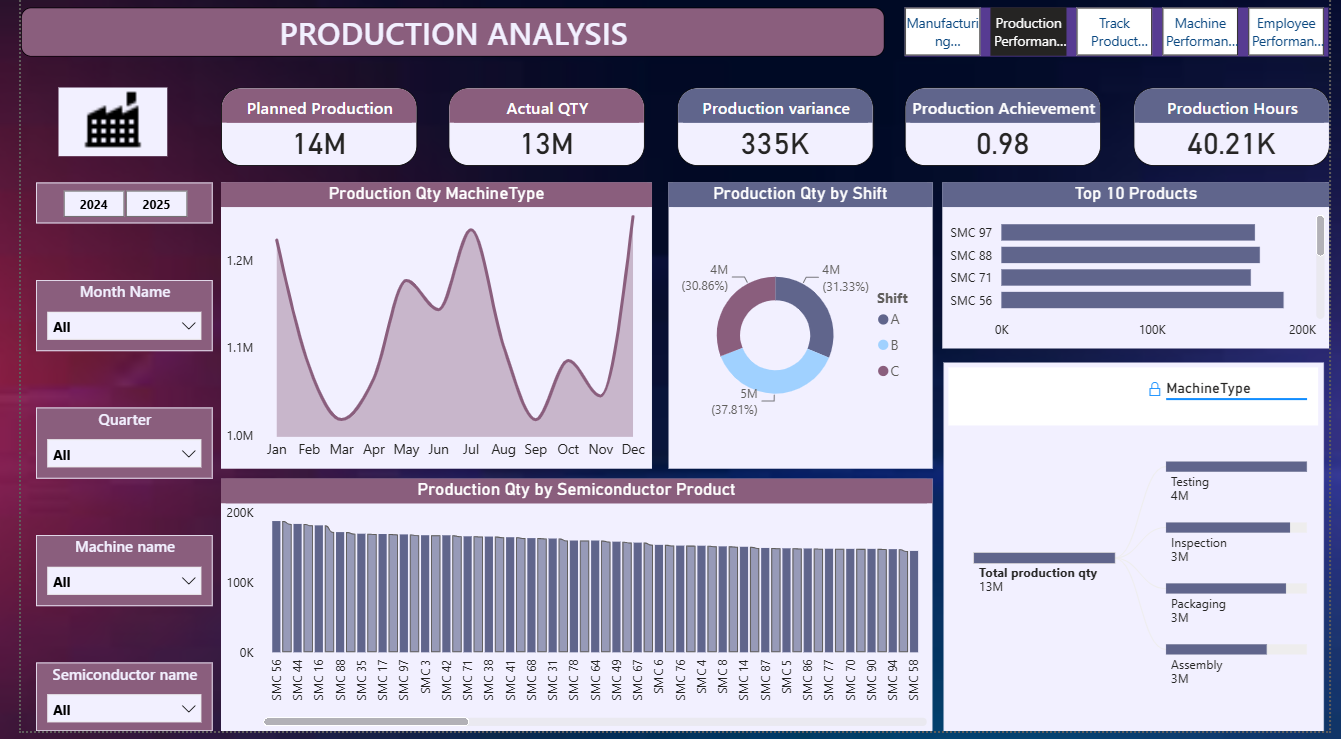

The dashboard page shown, as its layout file describes it:
{"tool":"powerbi","page":{"name":"Production Performance","canvas":[1280,720],"ordinal":1},"visuals":[{"type":"card","title":"Planned Production","fields":{"Values":["Measure Table.Total planned production"]},"box":[195.7,90.5,192,77],"z":0},{"type":"card","title":"Actual QTY","fields":{"Values":["Sum(Fact_Production.ActualQty)"]},"box":[418.7,90.5,192,77],"z":1000},{"type":"card","title":"Production variance","fields":{"Values":["Measure Table.Production variance"]},"box":[641.8,90.5,192,77],"z":2000},{"type":"card","title":"Production Achievement","fields":{"Values":["Measure Table.Production Achievement%"]},"box":[864.9,90.5,192,77],"z":3000},{"type":"card","title":"Production Hours","fields":{"Values":["Measure Table.Total Production Hours"]},"box":[1088,90.5,192,77],"z":4000},{"type":"ribbonChart","title":"Production Qty by Semiconductor Product","fields":{"Category":["Dim_Product.ProductName"],"Y":["Measure Table.Total production qty"]},"box":[195.7,473.2,695.8,247],"z":5000},{"type":"donutChart","title":"Production Qty by Shift","fields":{"Category":["Dim_Employee.Shift"],"Y":["Measure Table.Total production qty"]},"box":[633.4,183.4,258,280],"z":6000},{"type":"decompositionTreeVisual","title":"Production Qty MachineType","fields":{"ExplainBy":["Dim_Machine.MachineType"],"Analyze":["Measure Table.Total production qty"]},"box":[902.5,359.5,371.7,360.7],"z":7000},{"type":"areaChart","title":"Production Qty MachineType","fields":{"Category":["Dim_Date.Month Short"],"Y":["Measure Table.Total production qty"]},"box":[195.7,183.4,421.9,280],"z":8000},{"type":"clusteredBarChart","title":"Top 10 Products","fields":{"Y":["Measure Table.Total production qty"],"Category":["Dim_Product.ProductName"]},"box":[901.2,183.4,379.1,162.6],"z":9000},{"type":"textbox","title":"PRODUCTION ANALYSIS","box":[0,12.2,845,47.7],"z":10000},{"type":"slicer","fields":{"Values":["Dim_Date.Year"]},"box":[14.7,183.4,172.4,40.4],"z":11000},{"type":"slicer","title":"Month Name","fields":{"Values":["Dim_Date.Month Short"]},"box":[14.7,278.8,172.4,69.7],"z":12000},{"type":"slicer","title":"Machine name","fields":{"Values":["Dim_Machine.MachineName"]},"box":[14.7,528.3,172.4,69.7],"z":13000},{"type":"slicer","title":"Quarter","fields":{"Values":["Dim_Date.Quarter"]},"box":[14.7,403.5,172.4,69.7],"z":14000},{"type":"slicer","title":"Semiconductor name","fields":{"Values":["Dim_Product.ProductName"]},"box":[14.7,652.7,172.4,67.3],"z":15000},{"type":"image","box":[36.7,90.5,106.4,67.3],"z":16000},{"type":"pageNavigator","box":[864.5,12.2,414.5,47.7],"z":17000}]}

Visuals, with their boxes in screenshot pixels (x1, y1, x2, y2), scaled from the page's 1280x720 canvas onto the 1341x739 screenshot:
"Planned Production" card: bbox=[205, 93, 406, 172]
"Actual QTY" card: bbox=[439, 93, 640, 172]
"Production variance" card: bbox=[672, 93, 874, 172]
"Production Achievement" card: bbox=[906, 93, 1107, 172]
"Production Hours" card: bbox=[1140, 93, 1340, 172]
"Production Qty by Semiconductor Product" ribbonChart: bbox=[205, 486, 934, 738]
"Production Qty by Shift" donutChart: bbox=[664, 188, 934, 476]
"Production Qty MachineType" decompositionTreeVisual: bbox=[946, 369, 1335, 738]
"Production Qty MachineType" areaChart: bbox=[205, 188, 647, 476]
"Top 10 Products" clusteredBarChart: bbox=[944, 188, 1340, 355]
"PRODUCTION ANALYSIS" textbox: bbox=[0, 13, 885, 61]
slicer - Dim_Date.Year: bbox=[15, 188, 196, 230]
"Month Name" slicer: bbox=[15, 286, 196, 358]
"Machine name" slicer: bbox=[15, 542, 196, 614]
"Quarter" slicer: bbox=[15, 414, 196, 486]
"Semiconductor name" slicer: bbox=[15, 670, 196, 738]
image: bbox=[38, 93, 150, 162]
pageNavigator: bbox=[906, 13, 1340, 61]
